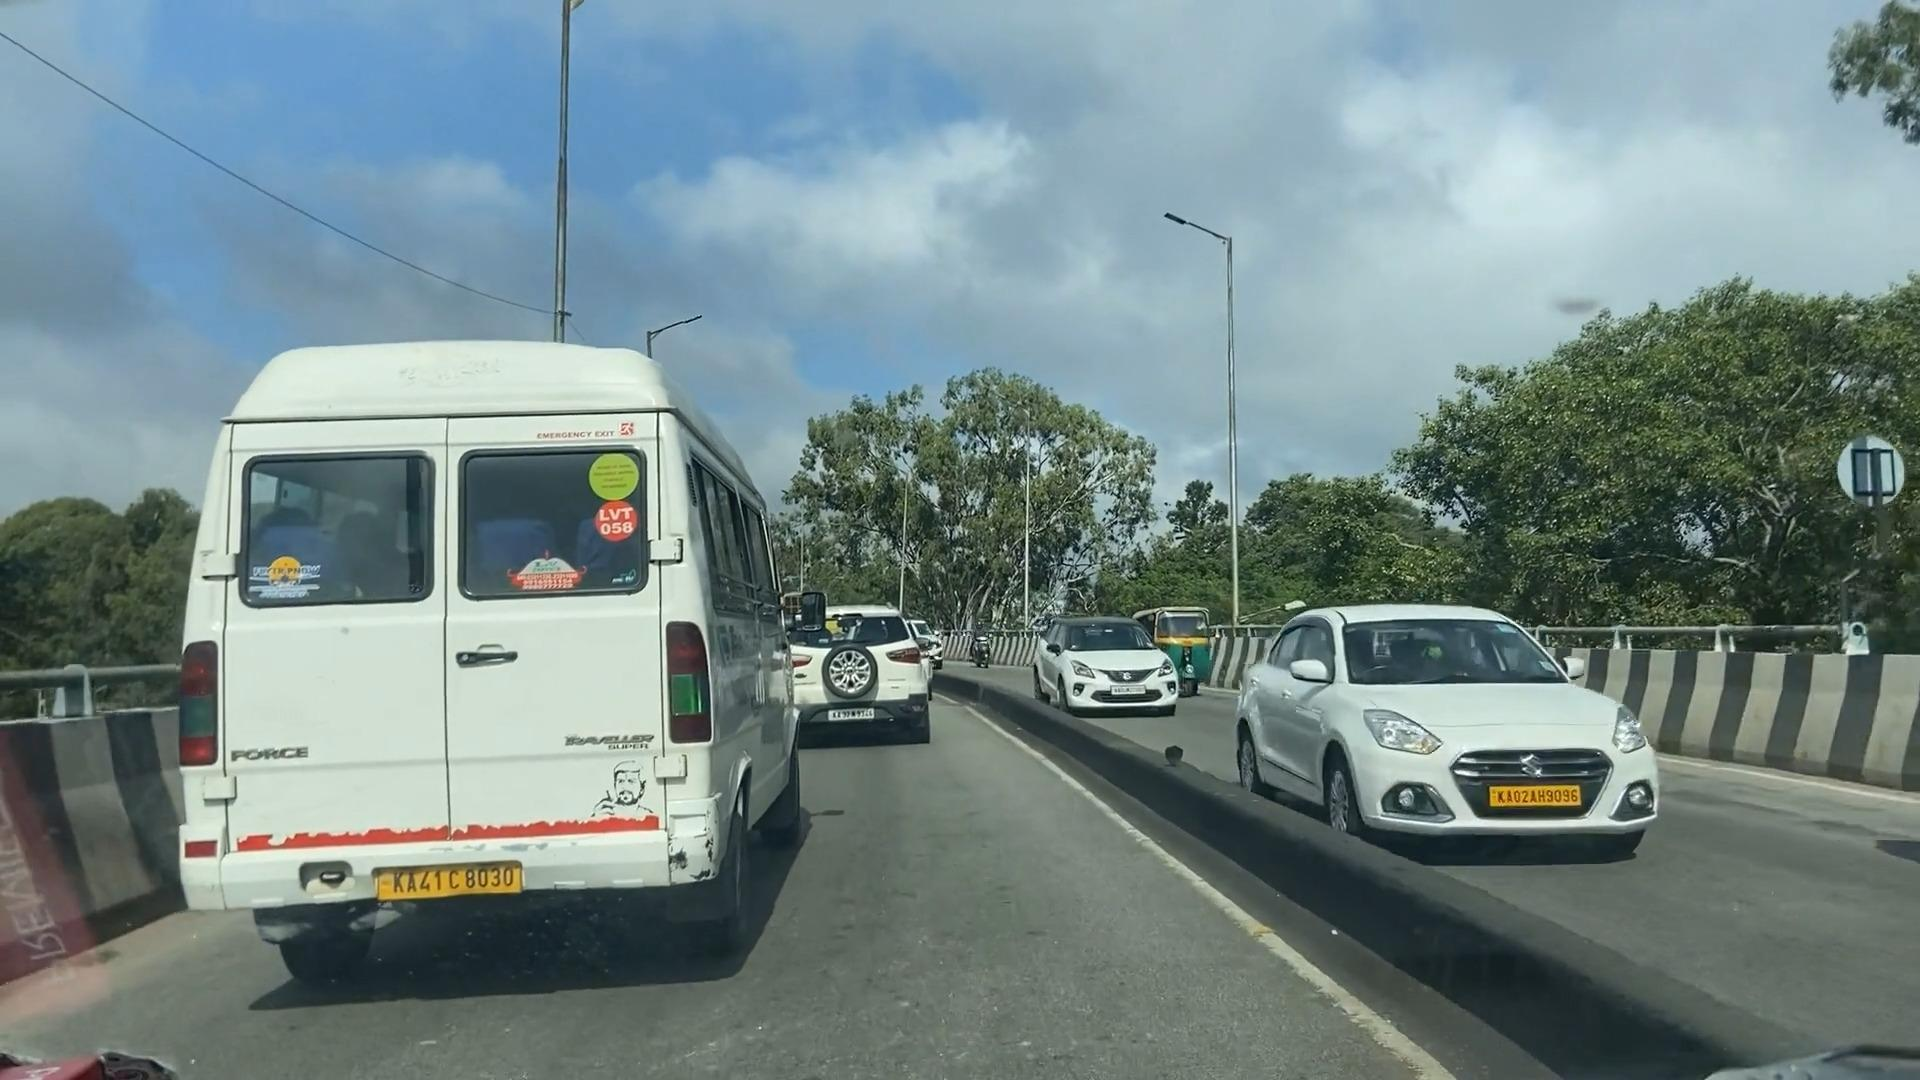HMV: (178, 344, 789, 931)
LMV: (783, 601, 928, 745)
